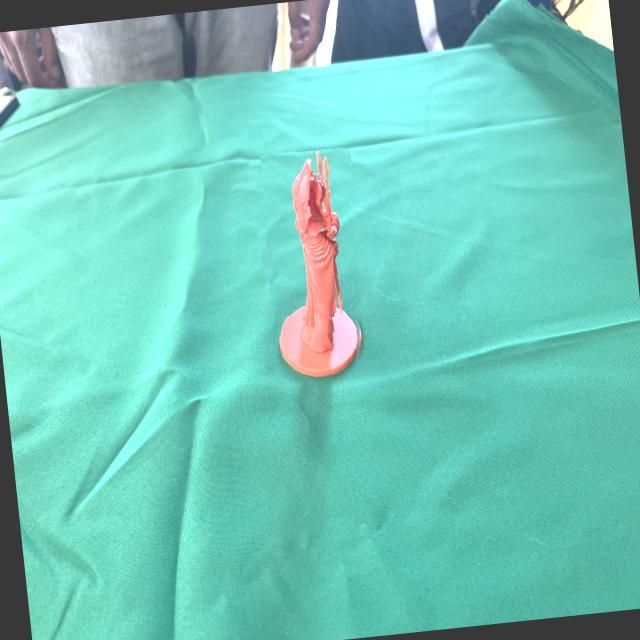amon: (257, 146, 371, 386)
